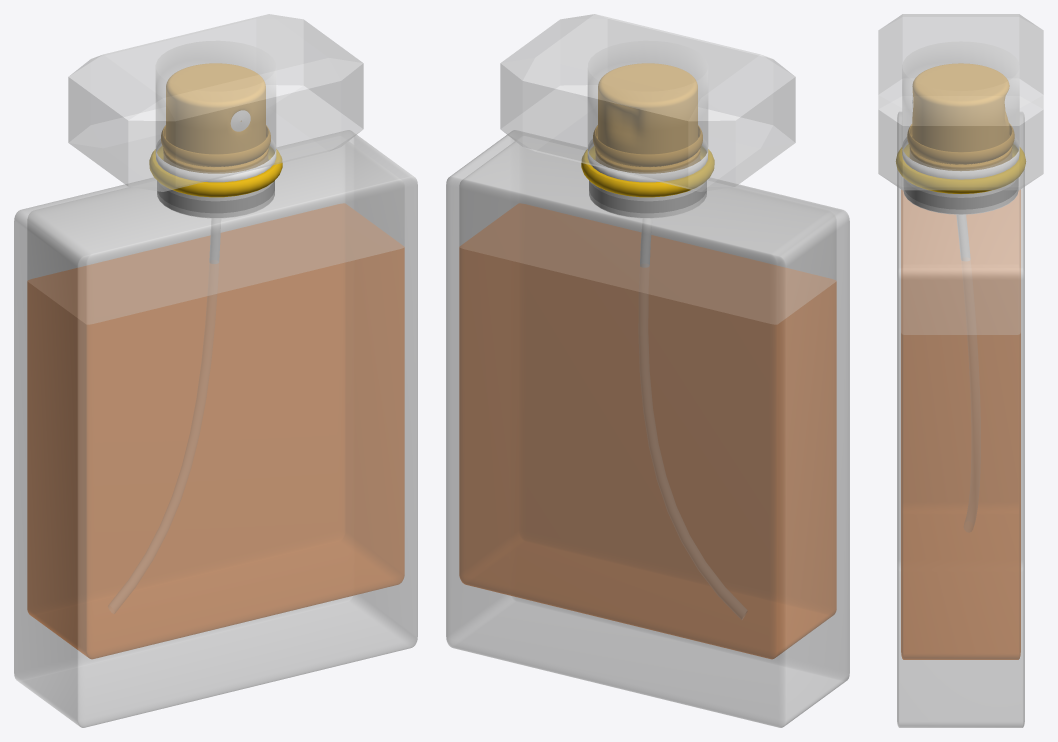
File: perfume-2.glb
3 renders of one model, left to right at view 1: azimuth 30°, elevation 25°; view 2: azimuth 150°, elevation 25°; view 3: azimuth 270°, elevation 25°, orthographic. The views are drawn at different scales.
Visible parts, largest first — view 1: Cube.001, liquid, Cube.002, Circle, object 5, Cube.003, label 2, label; view 2: Cube.001, liquid, Cube.002, Circle, object 5, Cube.003, label 2, label; view 3: Cube.001, liquid, Cube.002, Circle, Cube.003, label 2, object 5, label.
Boxes of the visible parts, <box> form: Cube.001: <box>14,130,417,727</box>; liquid: <box>27,203,404,659</box>; Cube.002: <box>68,14,363,191</box>; Circle: <box>161,63,270,173</box>; object 5: <box>109,218,220,612</box>; Cube.003: <box>155,138,276,218</box>; label 2: <box>149,146,282,197</box>; label: <box>157,180,274,213</box>; Cube.001: <box>446,130,849,727</box>; liquid: <box>459,203,836,659</box>; Cube.002: <box>500,14,795,191</box>; Circle: <box>593,63,702,173</box>; object 5: <box>639,218,746,619</box>; Cube.003: <box>587,138,708,218</box>; label 2: <box>581,146,714,197</box>; label: <box>589,180,706,213</box>; Cube.001: <box>897,112,1024,727</box>; liquid: <box>901,190,1020,659</box>; Cube.002: <box>878,14,1043,190</box>; Circle: <box>907,63,1014,170</box>; Cube.003: <box>902,137,1019,214</box>; label 2: <box>896,144,1025,193</box>; object 5: <box>956,215,980,526</box>; label: <box>903,178,1018,209</box>.
Bounding box in the file's own units: 2.34 × 4 × 1.01.
